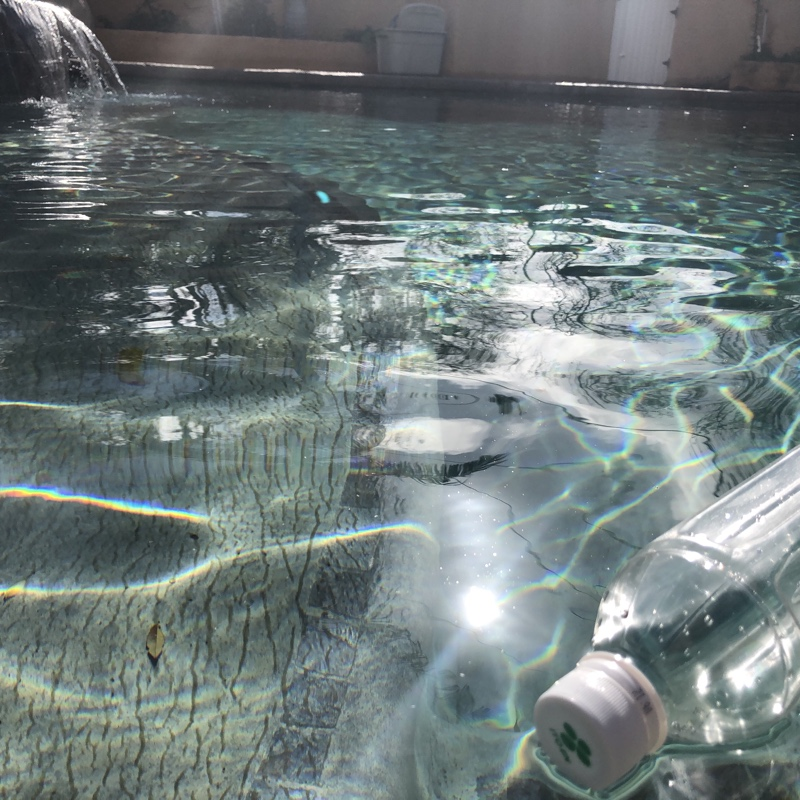Plastic Bottle: (496, 386, 800, 800)
